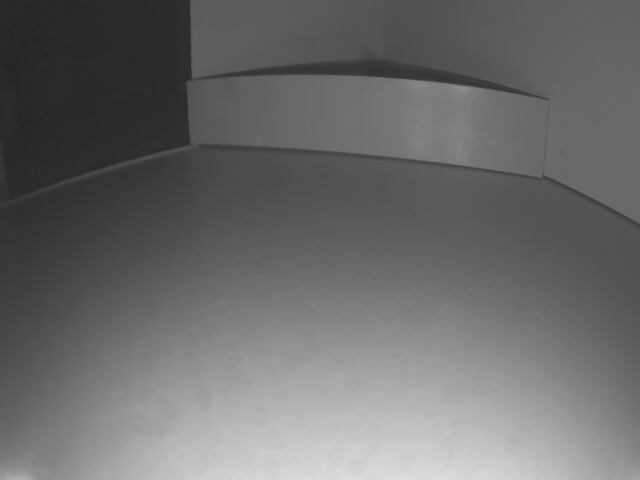Red: (186, 79, 551, 178)
